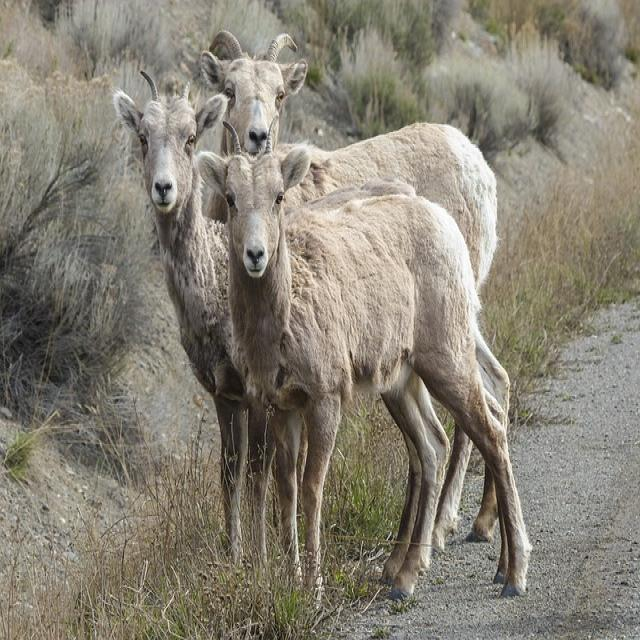sheep: (195, 115, 532, 604)
